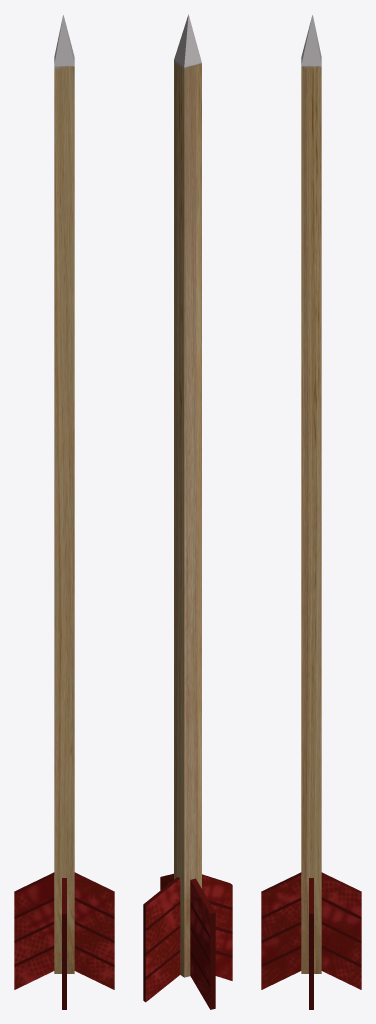
The model's file is arrow_3.obj.
The picture shows the model from 3 angles, left to right: view 1: azimuth 90°, elevation 25°; view 2: azimuth 210°, elevation 25°; view 3: azimuth 270°, elevation 25°; orthographic projection.
Visible parts, largest first — view 1: Cube; view 2: Cube; view 3: Cube.
Boxes of the visible parts, x1,y1,x2,y2 form: Cube: (14,15,114,1009); Cube: (143,14,232,1009); Cube: (261,15,361,1009).
Bounding box in the file's own units: 0.1656 × 1.78 × 0.1656.
1 material, 1 textured.
